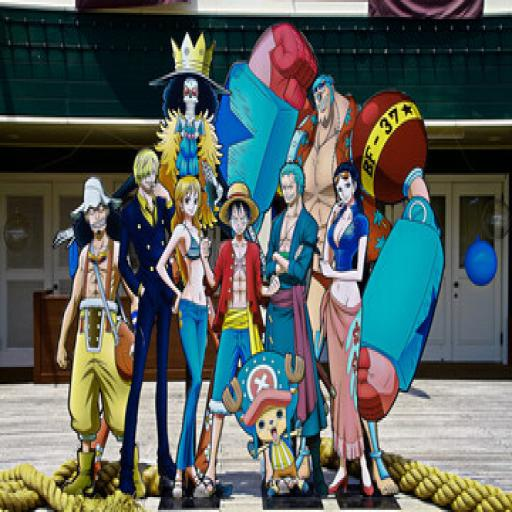Luffy: (212, 180, 272, 352)
Nami: (162, 168, 217, 506)
NicoRobin: (320, 158, 373, 500)
Usopp: (61, 172, 137, 498)
Zoro: (268, 139, 320, 346)
sanji: (121, 149, 177, 500)
